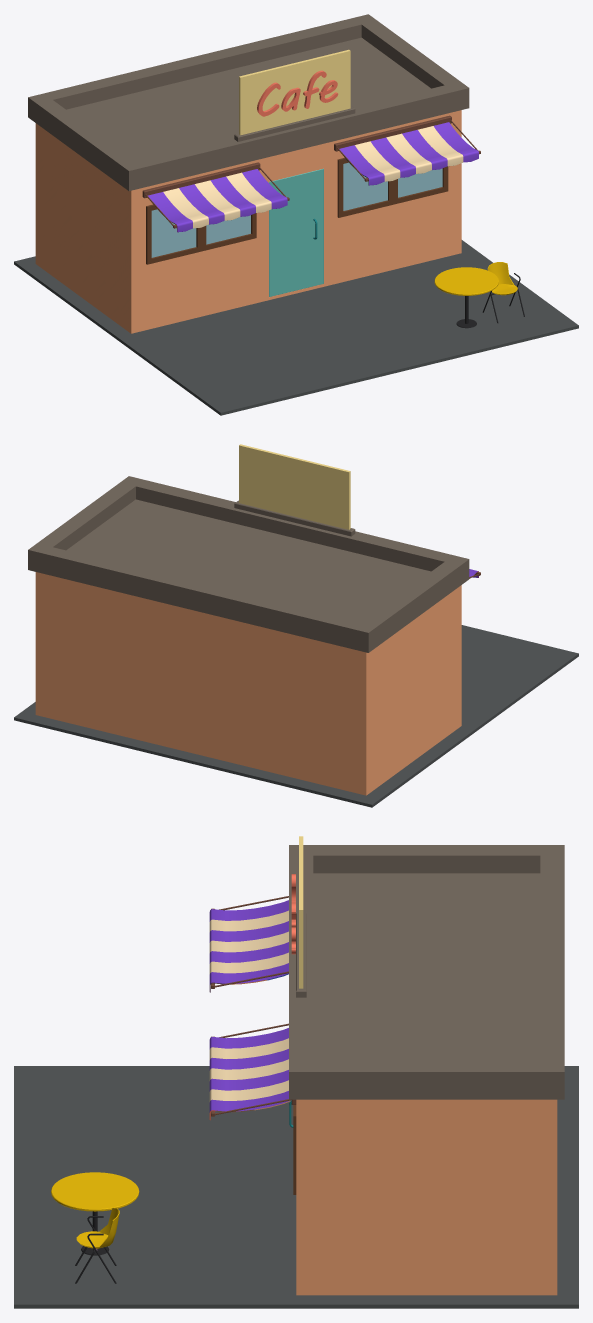
File: Cafe.fbx
3 renders of one model, top to bottom at view 1: azimuth 30°, elevation 25°; view 2: azimuth 150°, elevation 25°; view 3: azimuth 270°, elevation 25°, orthographic. The views are drawn at different scales.
Parts seen in each view (by area): view 1: Cafe, Cafe_door, Cafe_window, Cafe_table, Cafe_chair; view 2: Cafe; view 3: Cafe, Cafe_table, Cafe_chair.
Boxes of the visible parts, x1,y1,x2,y2 form: Cafe: (14, 14, 578, 415); Cafe_door: (269, 168, 323, 296); Cafe_window: (151, 162, 442, 257); Cafe_table: (434, 267, 498, 328); Cafe_chair: (482, 262, 524, 323); Cafe: (14, 444, 578, 807); Cafe: (14, 836, 578, 1308); Cafe_table: (51, 1172, 139, 1255); Cafe_chair: (75, 1207, 119, 1283).
Bounding box in the file's own units: 650 × 401 × 650.
